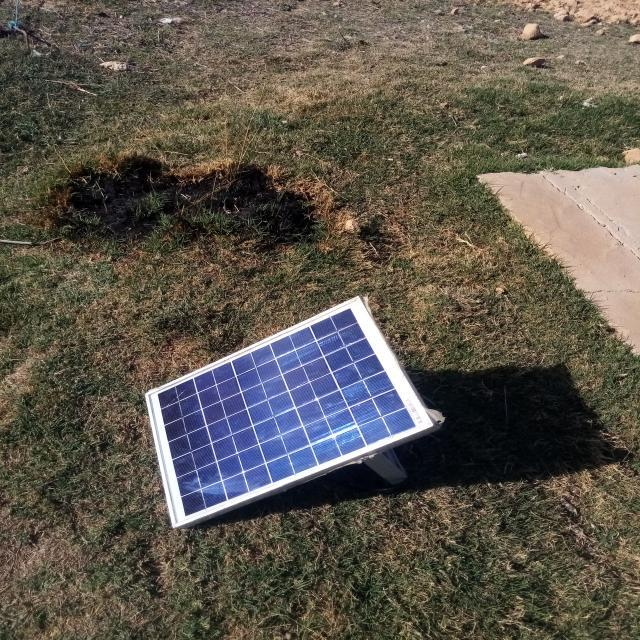no faulty: (144, 295, 437, 528)
